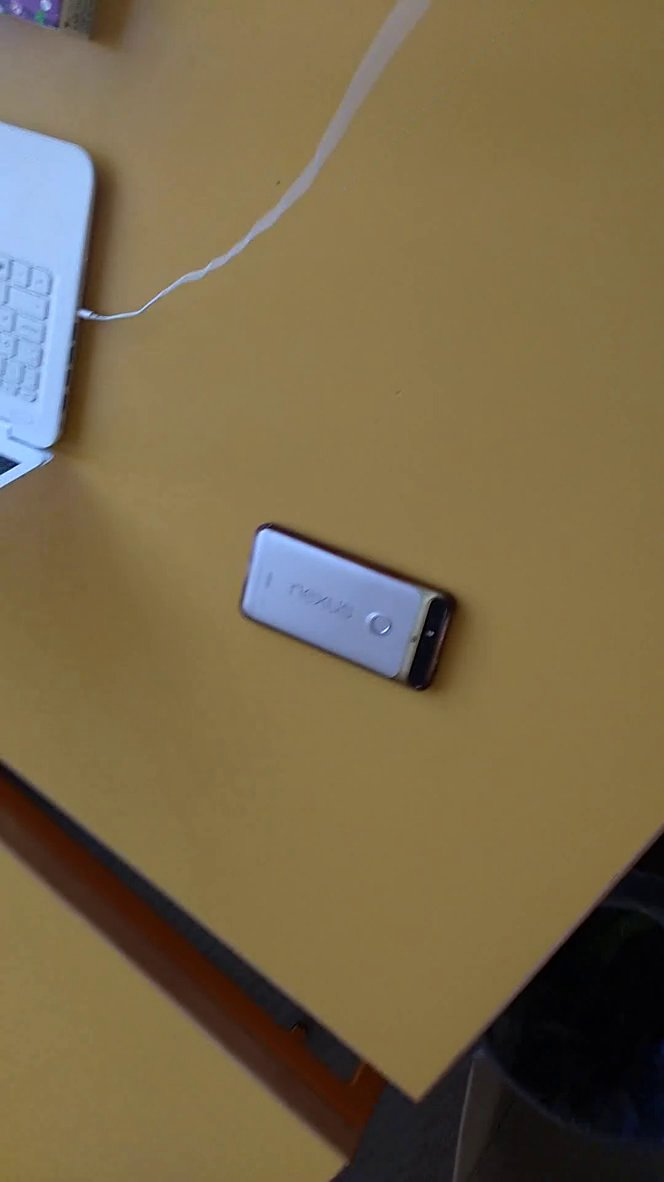phone: (219, 496, 464, 708)
